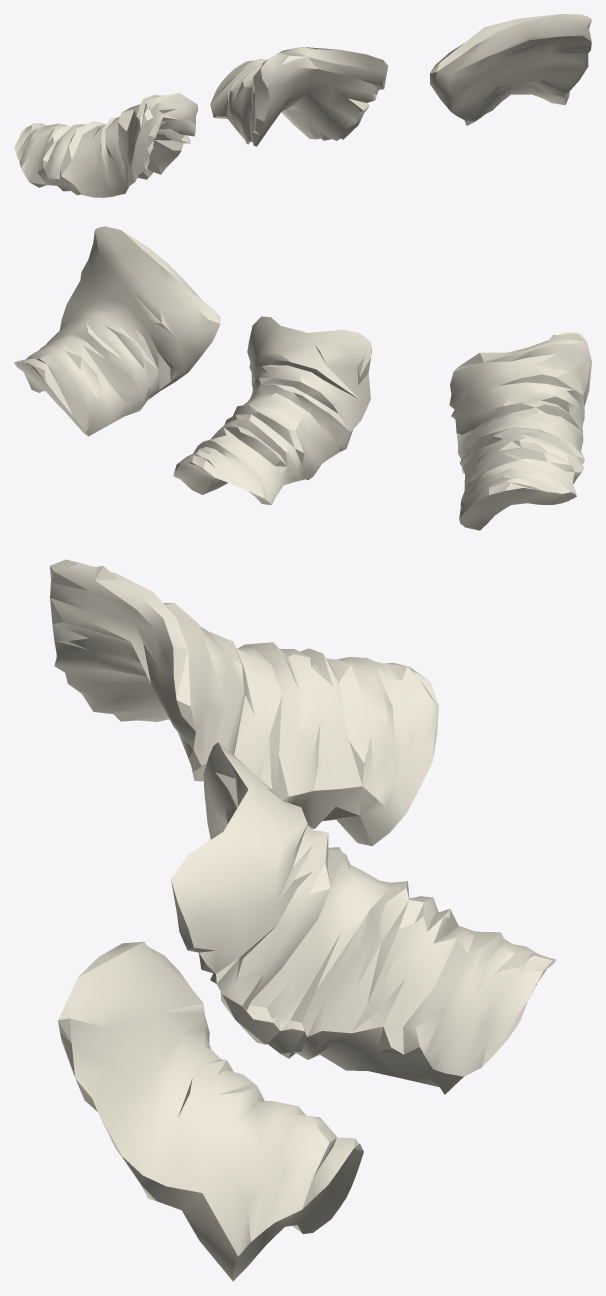
Rendered from fma73151-r_mm1499m.glb.
3 views of the same model, one above another, from view 1: azimuth 30°, elevation 25°; view 2: azimuth 150°, elevation 25°; view 3: azimuth 270°, elevation 25° (orthographic). The views are drawn at different scales.
Visible parts, largest first — view 1: FMA73151-R_MM1499M; view 2: FMA73151-R_MM1499M; view 3: FMA73151-R_MM1499M.
Boxes of the visible parts, left/top/right/bottom form: FMA73151-R_MM1499M: left=14, top=14, right=591, bottom=197; FMA73151-R_MM1499M: left=14, top=226, right=591, bottom=530; FMA73151-R_MM1499M: left=50, top=559, right=555, bottom=1281.
Size of the model in its own units: 0.0242 by 0.0064 by 0.01.
